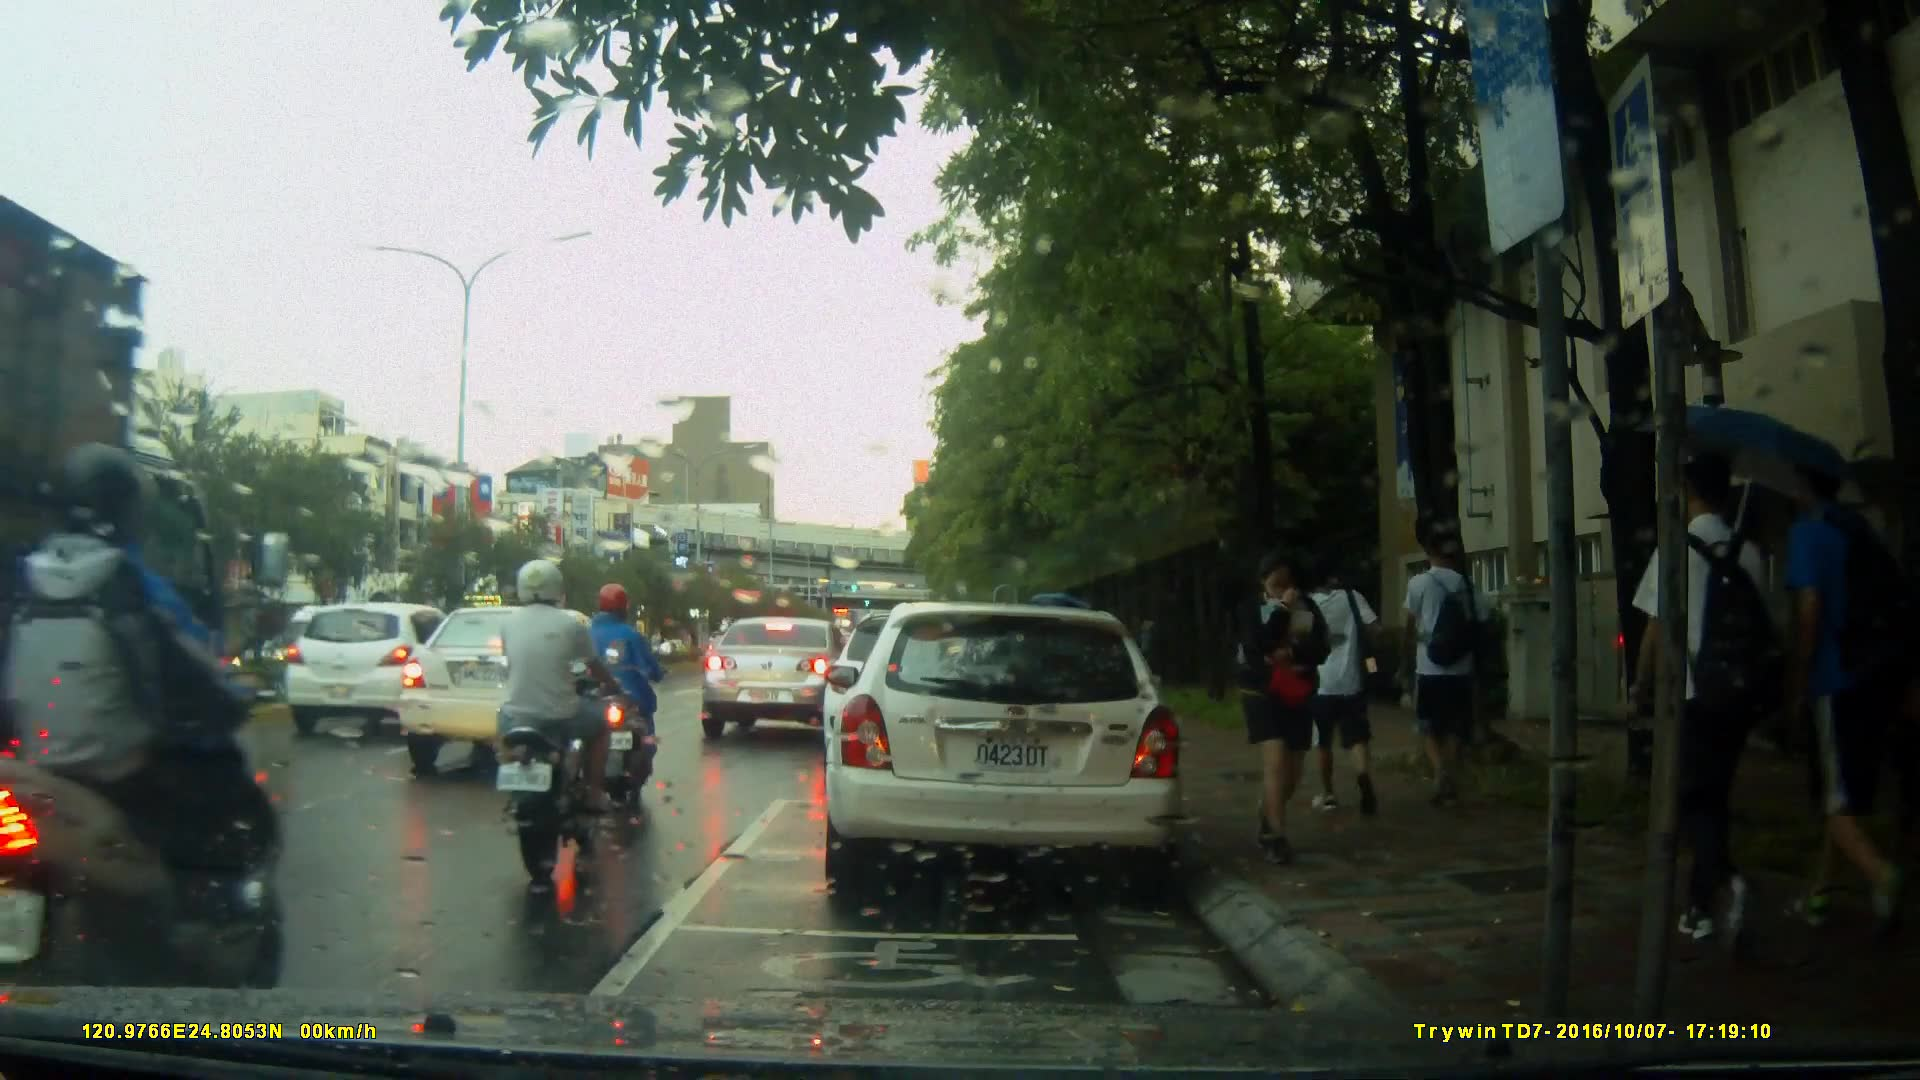pedestrian: (1735, 416, 1893, 945), (1617, 434, 1763, 953), (1388, 519, 1490, 822), (1234, 557, 1328, 863), (1293, 558, 1373, 822)
rider: (2, 445, 290, 1059), (494, 552, 617, 870), (580, 584, 675, 800)
vehicle: (820, 602, 1188, 898), (392, 604, 653, 781), (281, 600, 484, 737), (699, 614, 870, 742)
